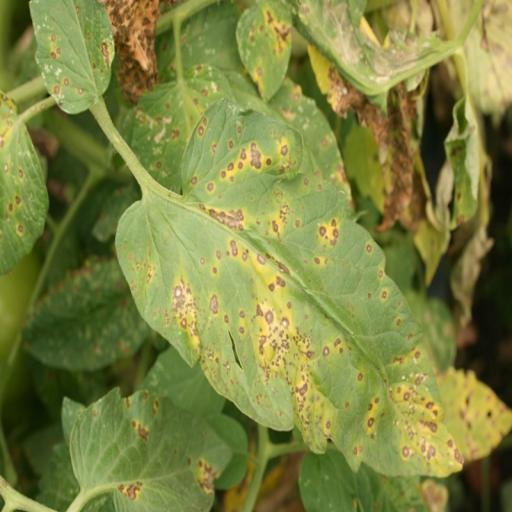disease_tomato: (113, 98, 466, 484), (72, 382, 234, 512), (28, 0, 116, 115), (0, 86, 50, 277), (232, 0, 294, 103)
